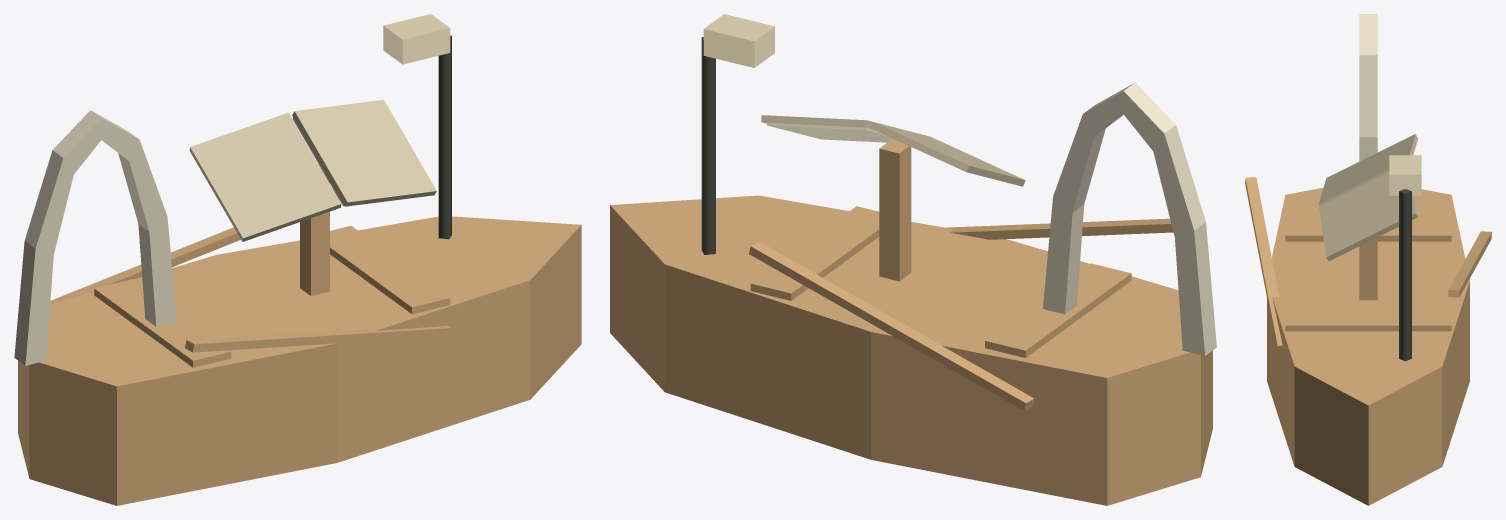
File: notebook-boat.glb
3 renders of one model, left to right at view 1: azimuth 30°, elevation 25°; view 2: azimuth 150°, elevation 25°; view 3: azimuth 270°, elevation 25°, orthographic. The views are drawn at different scales.
Parts seen in each view (by area): view 1: NotebookBoat, Book; view 2: NotebookBoat, Book, toy_page; view 3: NotebookBoat, Book.
Part boxes in pixels (bbox=[...]): NotebookBoat: bbox=[14, 14, 581, 505]; Book: bbox=[189, 99, 436, 241]; NotebookBoat: bbox=[610, 14, 1216, 505]; Book: bbox=[761, 115, 1025, 186]; toy_page: bbox=[767, 122, 900, 142]; NotebookBoat: bbox=[1245, 14, 1491, 505]; Book: bbox=[1319, 134, 1417, 261].
Size of the model in its own units: 5.9 by 3.5 by 2.67.
